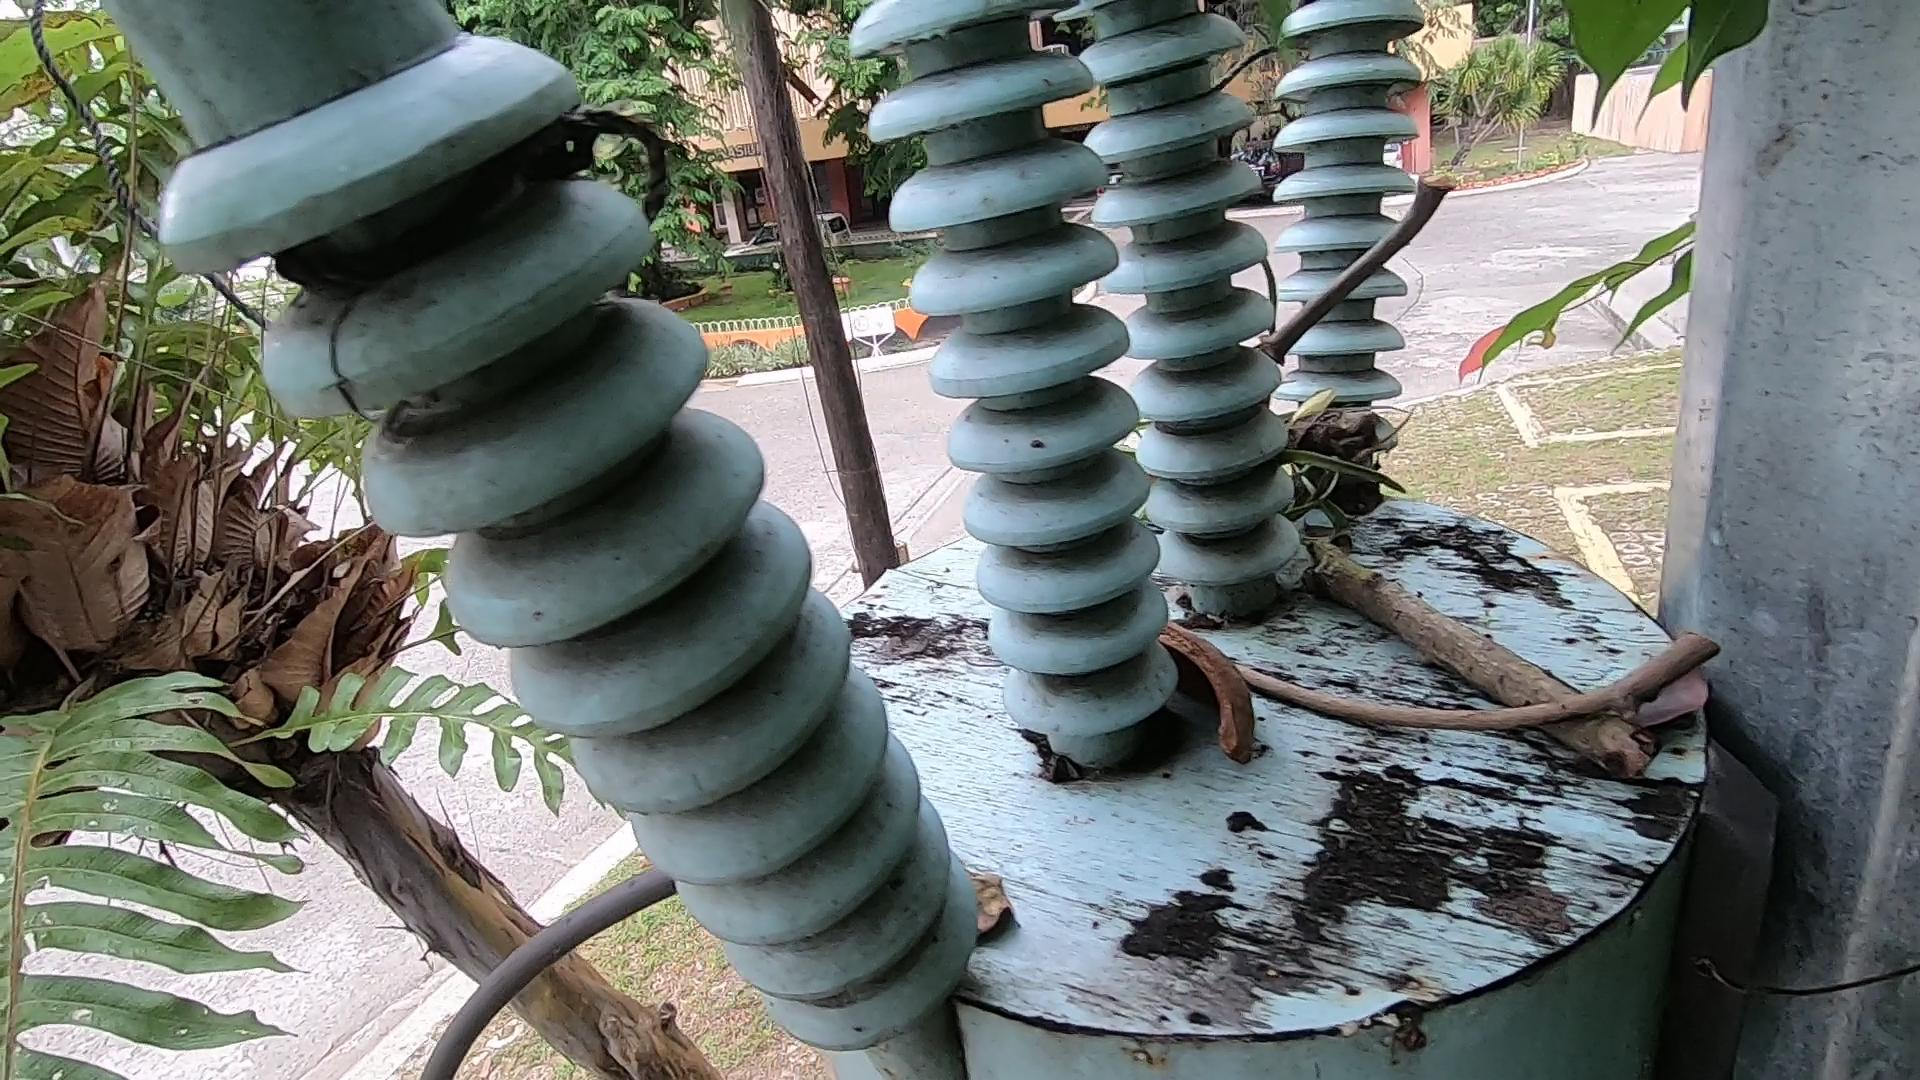branch with leaves: (1247, 369, 1658, 819)
leaf: (1596, 621, 1729, 815), (945, 847, 1036, 984)
mahogany fruit: (1145, 613, 1356, 861)
tree branch: (1158, 618, 1762, 808), (1211, 156, 1470, 434)
